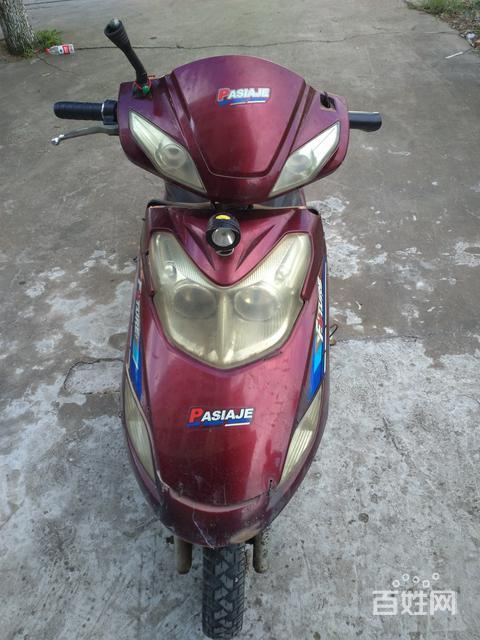电动车: (52, 13, 383, 640)
